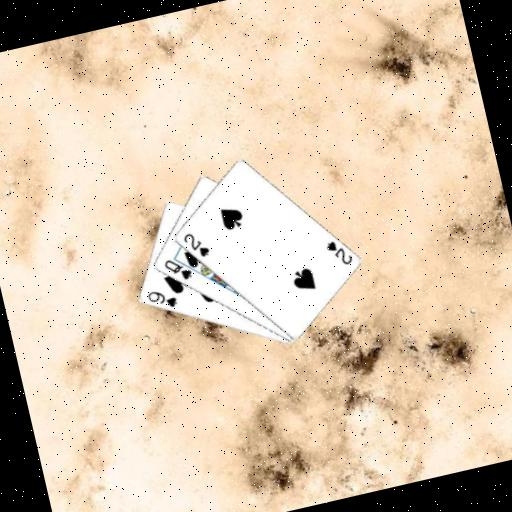2S: (179, 226, 213, 263), (322, 234, 355, 271)
9S: (143, 284, 180, 315)
QS: (160, 252, 194, 285)
